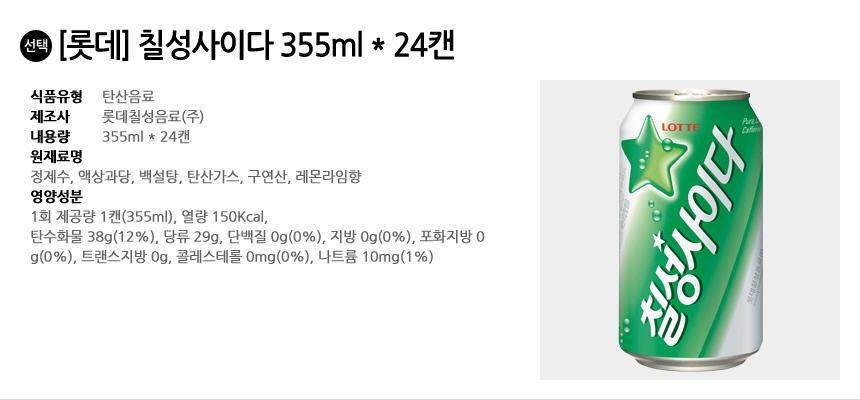chilsungcider: (608, 81, 766, 377)
